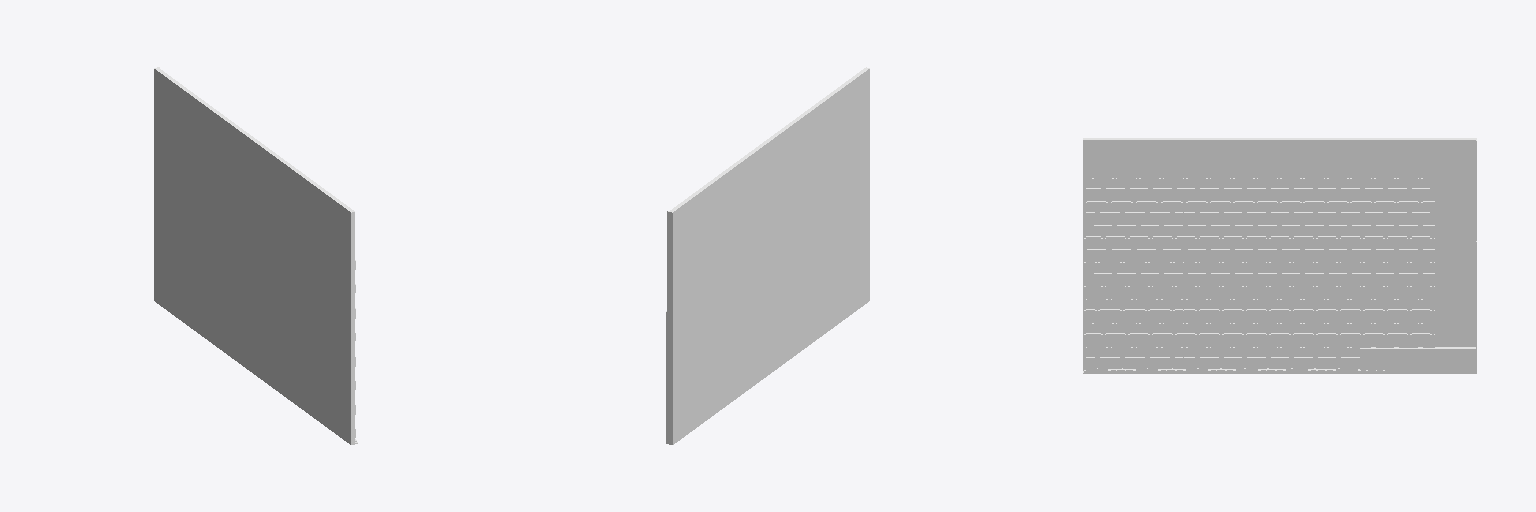
File: Bar1-9.obj
3 renders of one model, left to right at view 1: azimuth 30°, elevation 25°; view 2: azimuth 150°, elevation 25°; view 3: azimuth 270°, elevation 25°, orthographic.
Parts seen in each view (by area): view 1: object 1; view 2: object 1; view 3: object 1.
Boxes of the visible parts, <box> form: object 1: <box>154,67,357,444</box>; object 1: <box>666,67,869,444</box>; object 1: <box>1083,138,1476,373</box>.
Size of the model in its own units: 0.5 by 16.4 by 25.2.